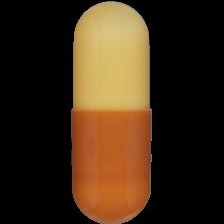0228-2666: (0, 0, 224, 224)
